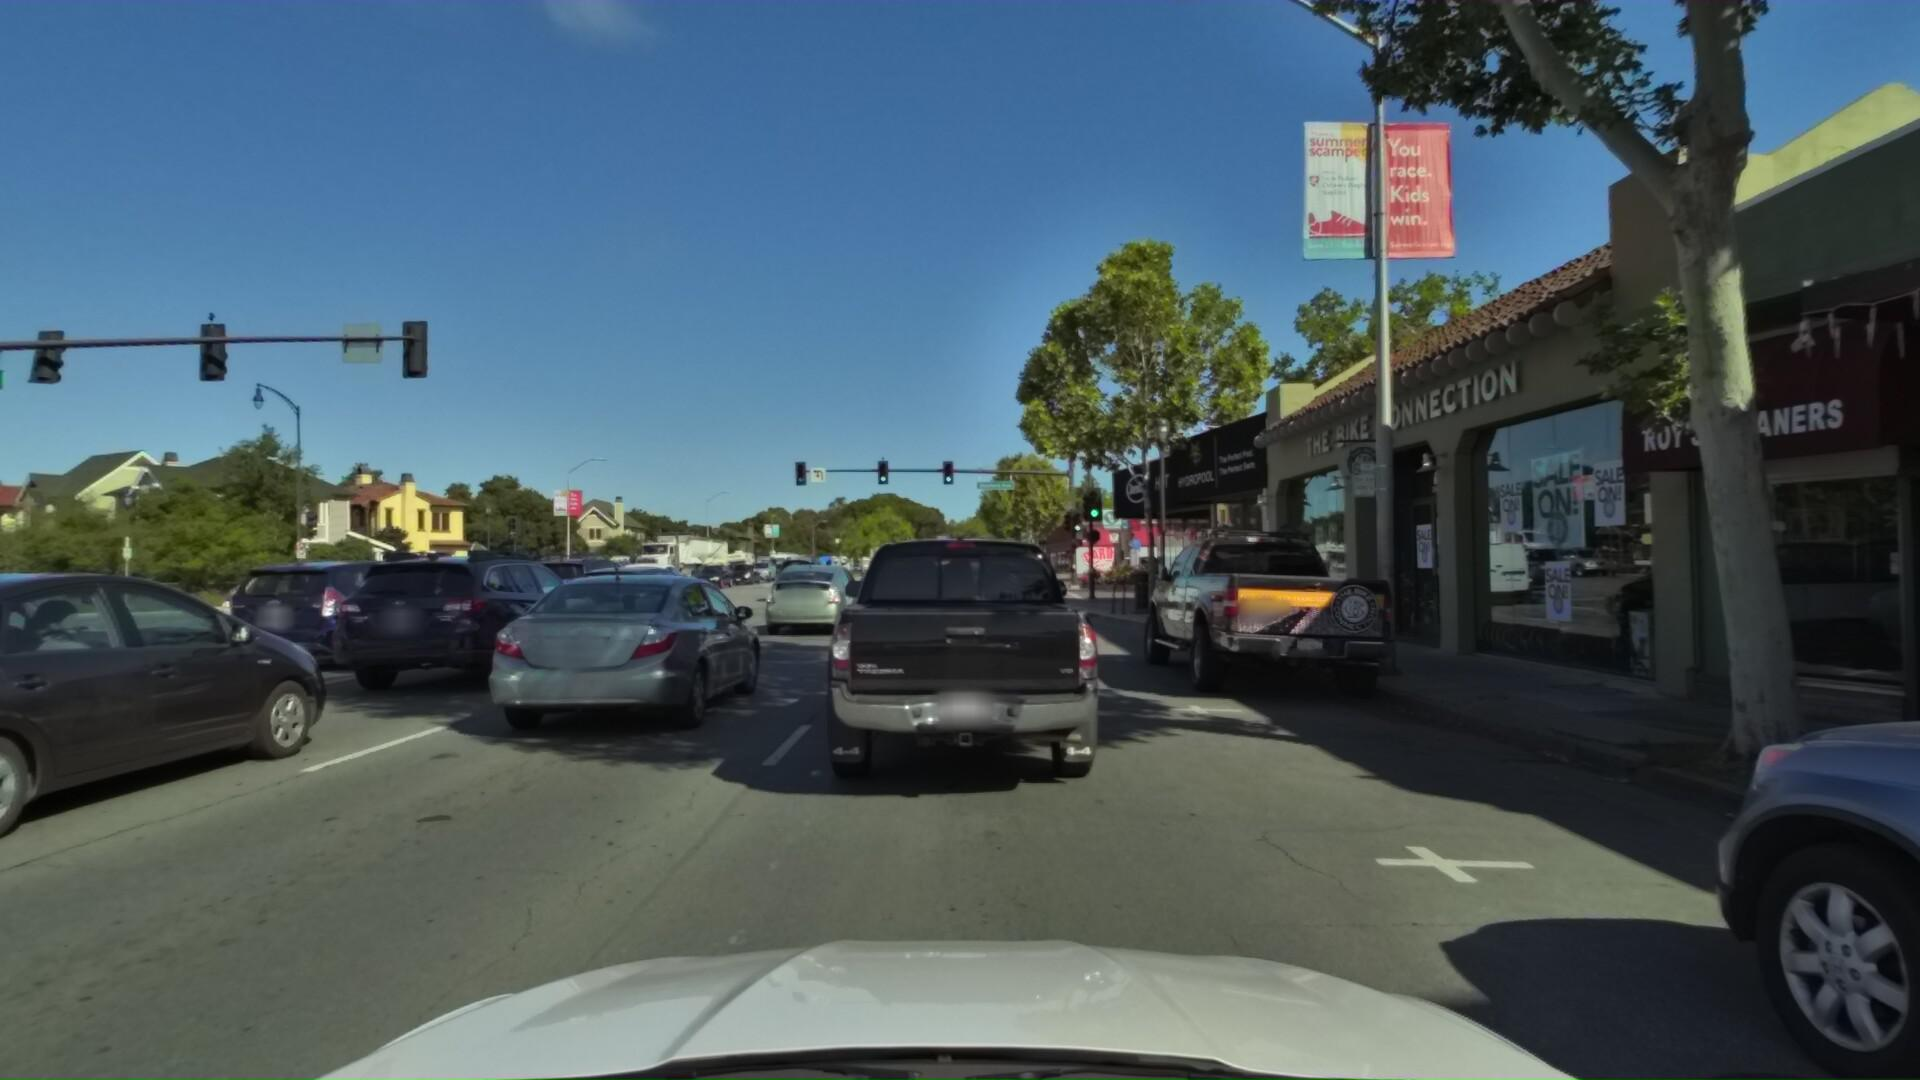car: (802, 522, 1109, 818), (444, 556, 785, 764), (1127, 496, 1416, 702), (313, 549, 603, 708), (208, 553, 480, 682), (549, 564, 716, 651), (488, 545, 641, 622), (753, 559, 869, 641), (927, 560, 1029, 647), (915, 545, 982, 612), (607, 559, 688, 612), (767, 554, 831, 596), (851, 564, 909, 609), (583, 547, 637, 583), (687, 553, 738, 585), (742, 553, 781, 578), (725, 556, 762, 582)
truck: (618, 521, 733, 588)
